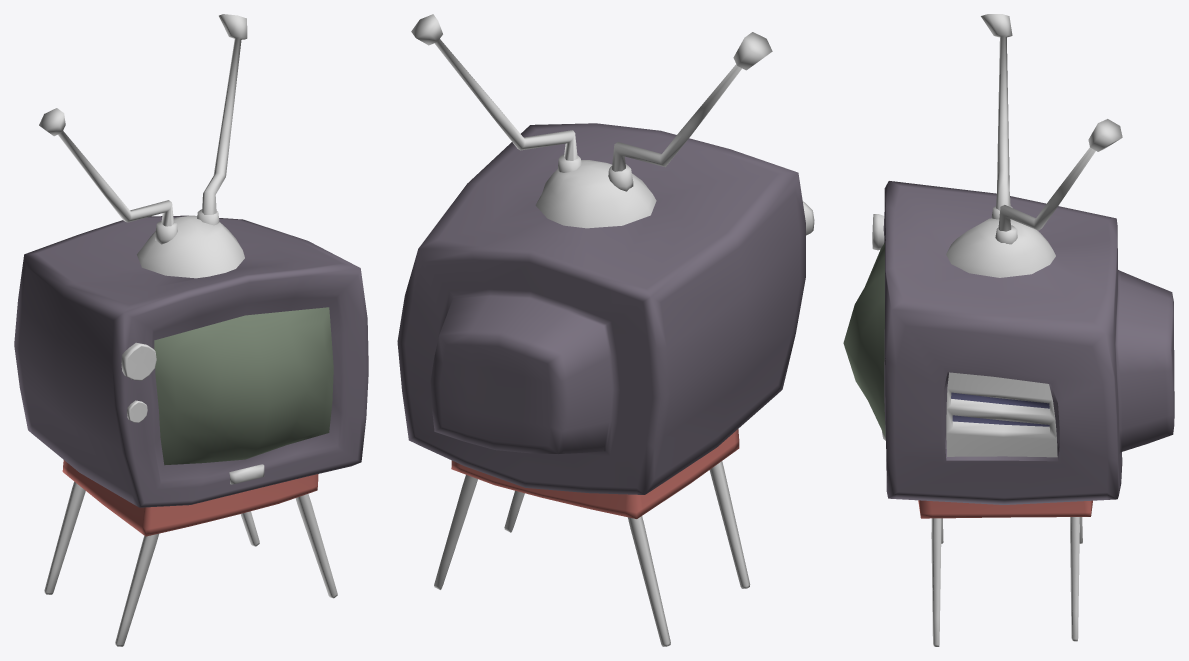
Rendered from props_tv.fbx.
3 renders of one model, left to right at view 1: azimuth 30°, elevation 25°; view 2: azimuth 150°, elevation 25°; view 3: azimuth 270°, elevation 25°, orthographic. The views are drawn at different scales.
Visible parts, largest first — view 1: tv; view 2: tv; view 3: tv.
Boxes of the visible parts, x1=… form: tv: x1=14, y1=14, x2=368, y2=646; tv: x1=397, y1=14, x2=814, y2=646; tv: x1=843, y1=14, x2=1174, y2=646.
Size of the model in its own units: 96.6 by 177 by 103.
